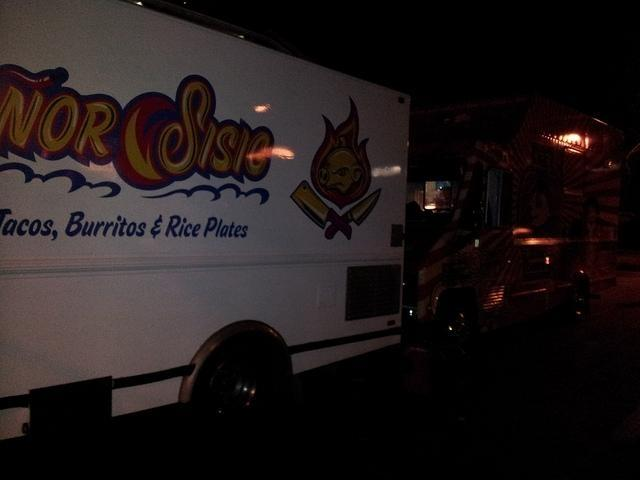truck: (0, 1, 416, 452), (402, 96, 628, 356)
